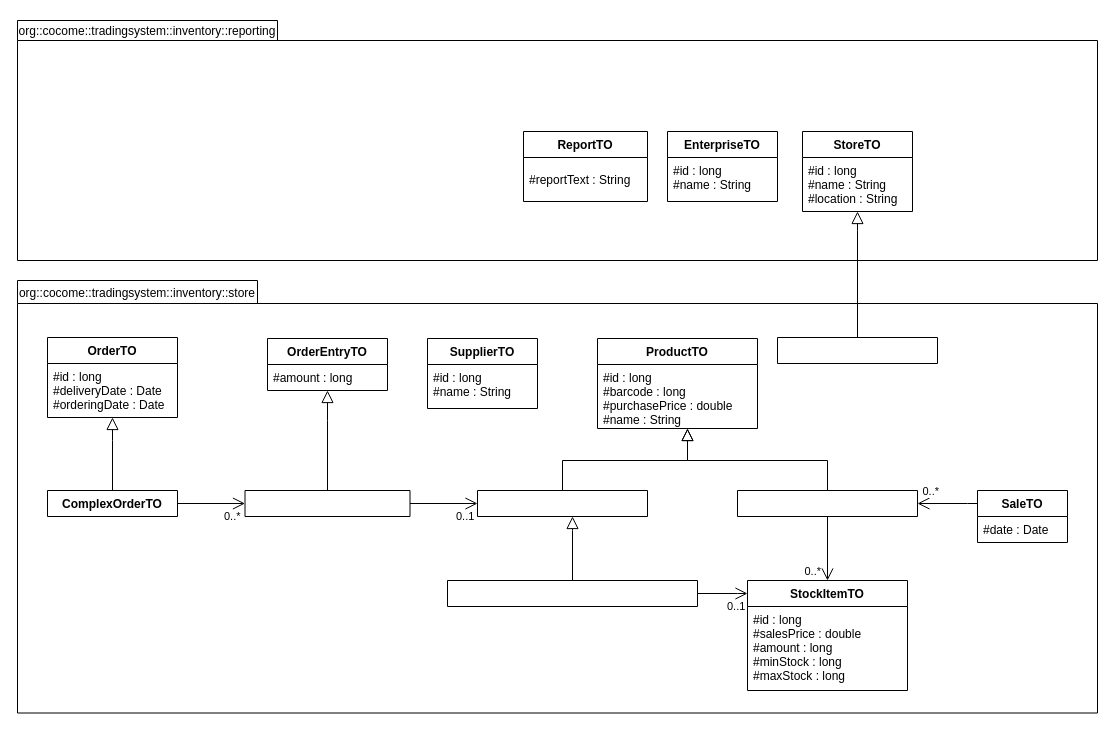
Image size: 1115x730. Some labels were removed from this diagram. The shapes that lost their labels are listed below. From the top down, each one's centre as x and y in pixels, then its label:
At (x=857, y=350): "StoreWithEnterpriseTO".
At (x=327, y=503): "ComplexOrderEntryTO".
At (x=562, y=503): "ProductWithSupplierTO".
At (x=827, y=503): "ProductWithStockItemTO".
At (x=572, y=593): "ProductWithSupplierAndStockItemTO".
